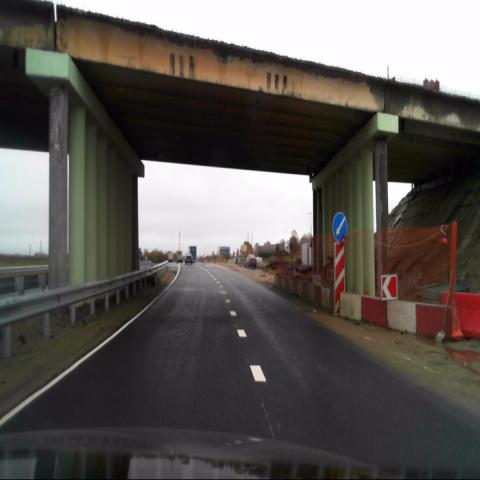4_2_2: (331, 212, 348, 242)
